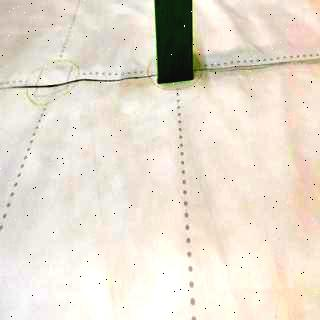greenbox: (152, 0, 199, 84)
